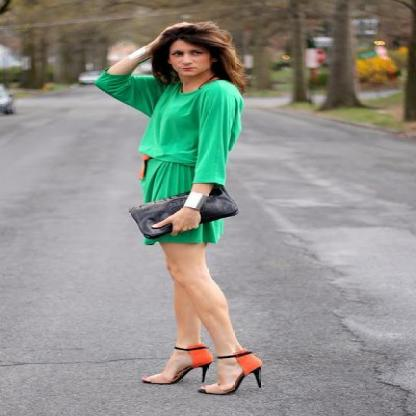bag: (129, 182, 237, 234)
dress: (87, 70, 242, 245)
shoe: (162, 345, 260, 395)
